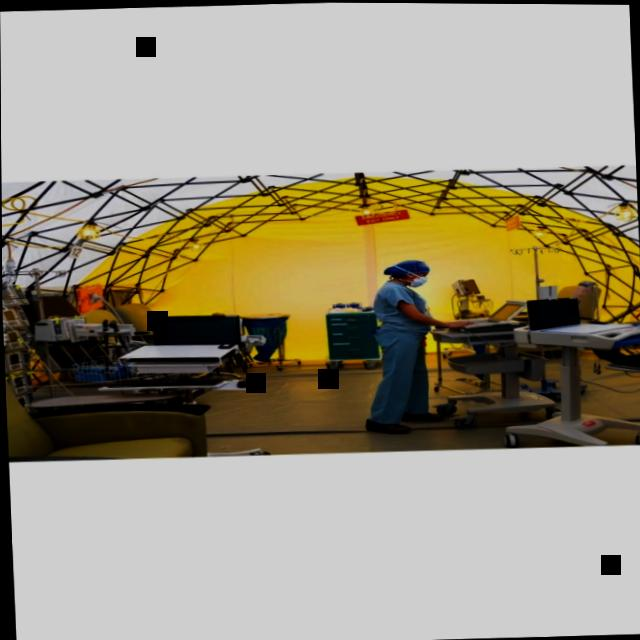Mask: (400, 270, 428, 287)
